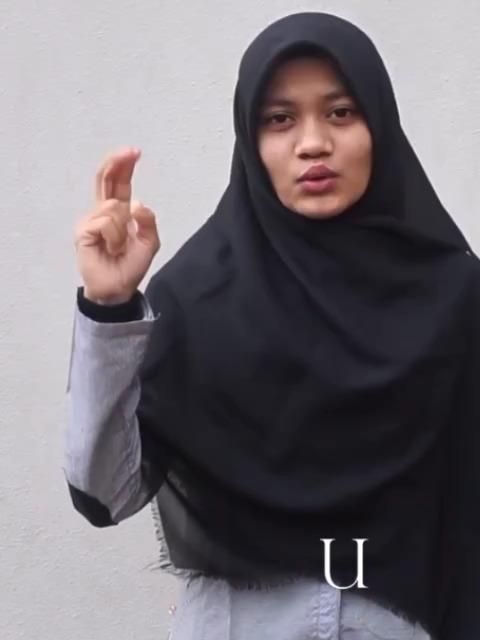U: (70, 142, 164, 302)
